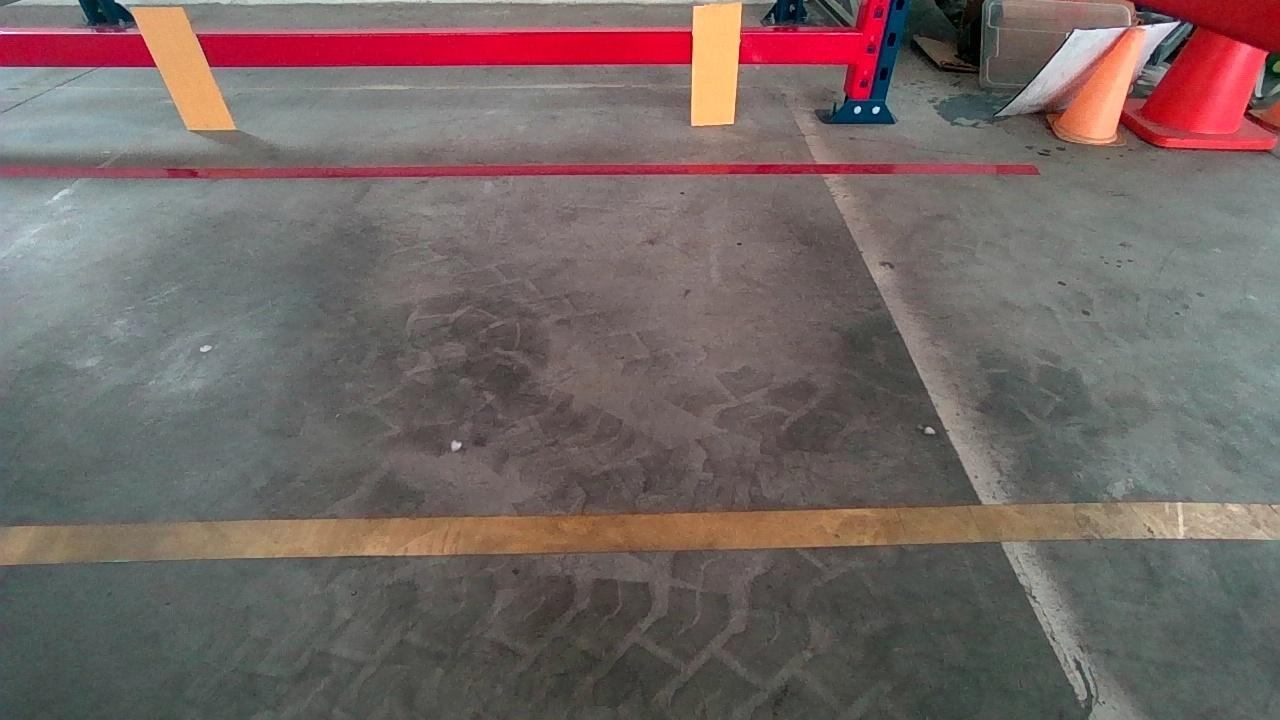h_rack: (2, 25, 859, 70)
orange_strip: (130, 7, 234, 127), (691, 4, 740, 124)
red_line: (5, 155, 1035, 185)
yellow_line: (0, 498, 1280, 565)
